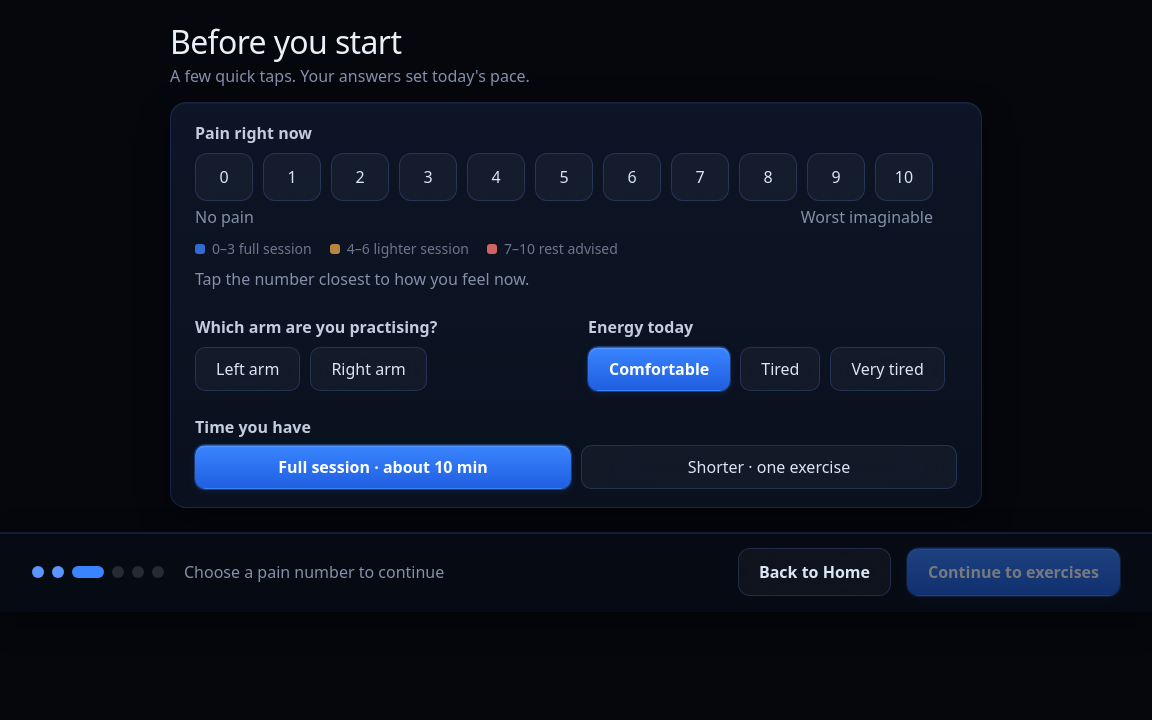
it: the line under the scale says what the chosen pain number does
Step 1. Click the radio button labelled "2" → click(360, 176), box [331,152,389,200]
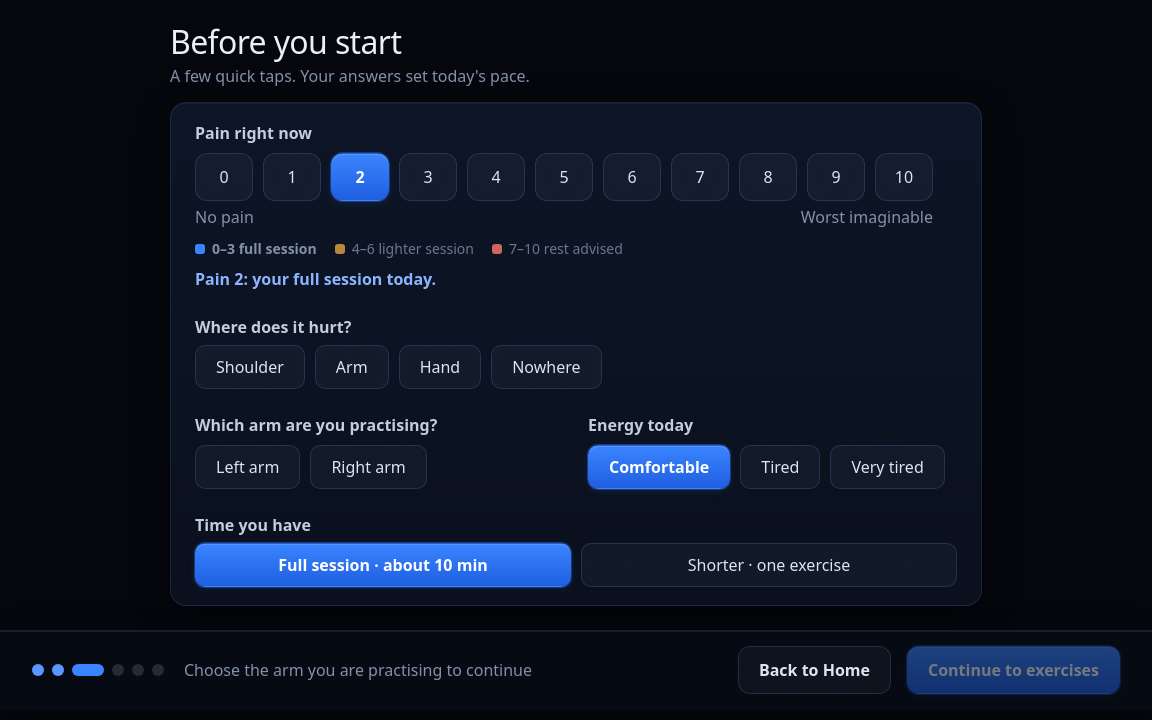
Check: the message reads "Pain 2: your full session today.", box [195,268,436,290]
Step 2. Click the radio button labelled "5" → click(564, 176), box [535,152,593,200]
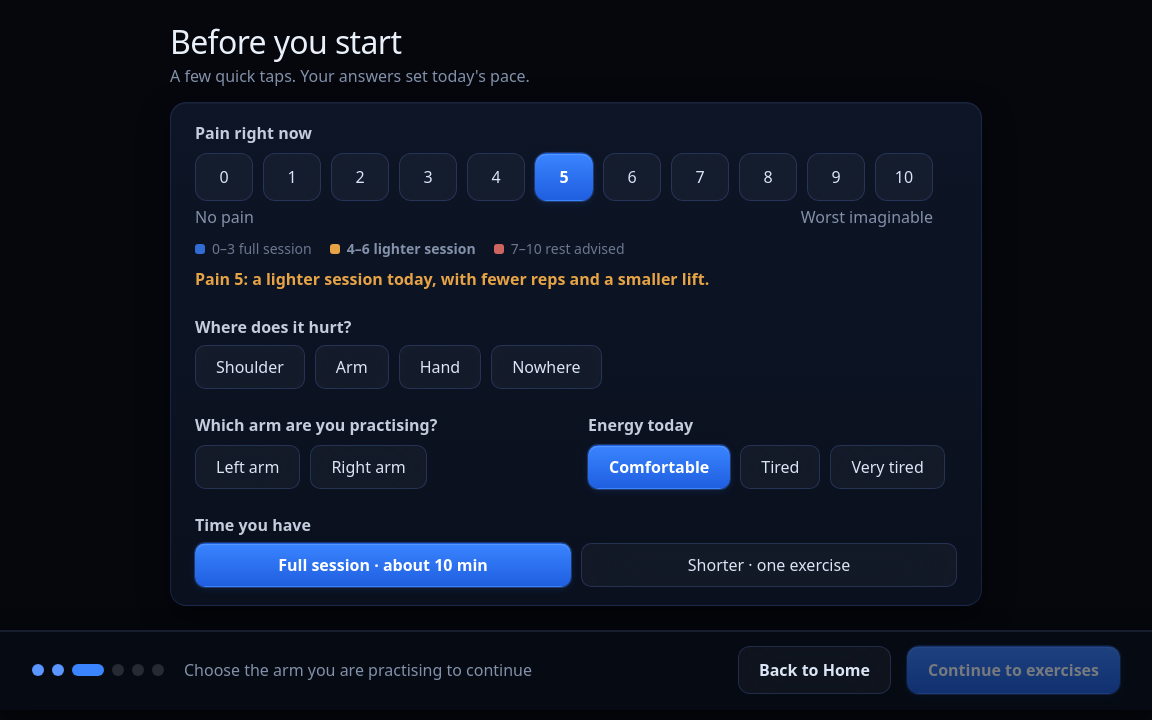
Check: the list item with class "ci-key-on" reads "4–6 lighter session", box [347,238,476,258]
Check: the message reads "Pain 5: a lighter session today, with fewer reps and a smaller lift.", box [195,268,709,290]
Step 3. Click the radio button labelled "8" → click(768, 176), box [739,152,797,200]
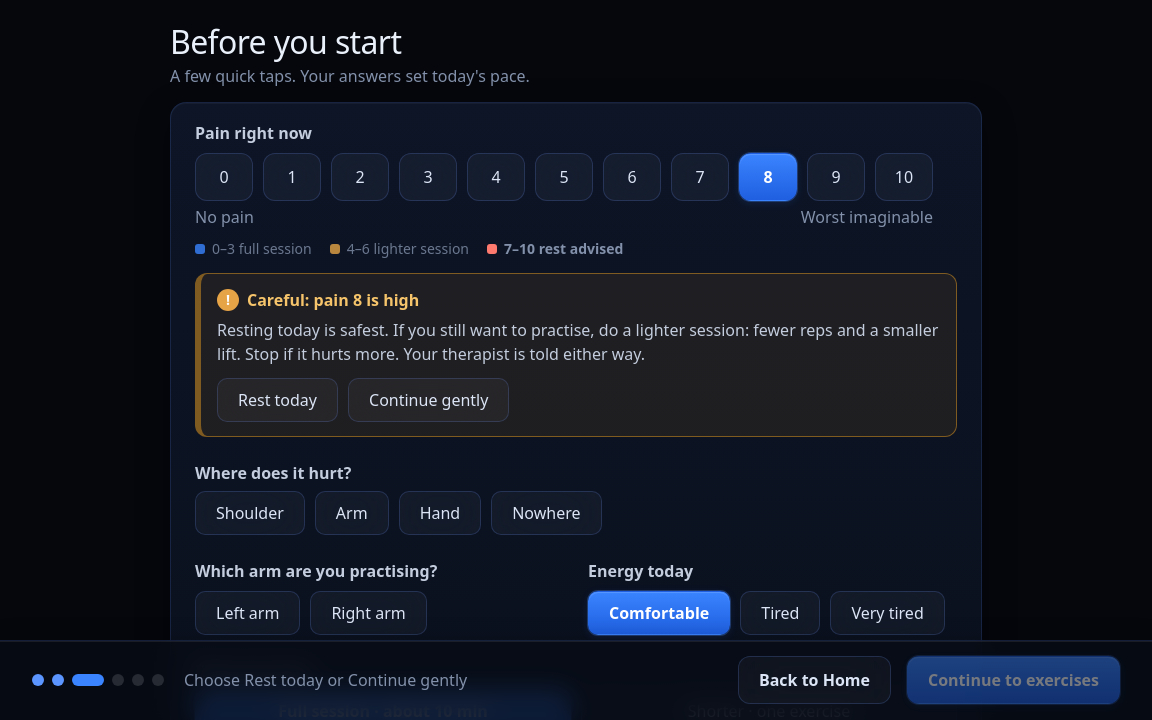
Check: the message shows "Careful: pain 8 is high", box [195,272,957,436]
Check: the message shows "Your therapist is told either way.", box [195,272,957,436]
Check: the radio buttons read "Rest today", "Continue gently", in this order, box [217,378,338,422]; [348,378,509,422]
